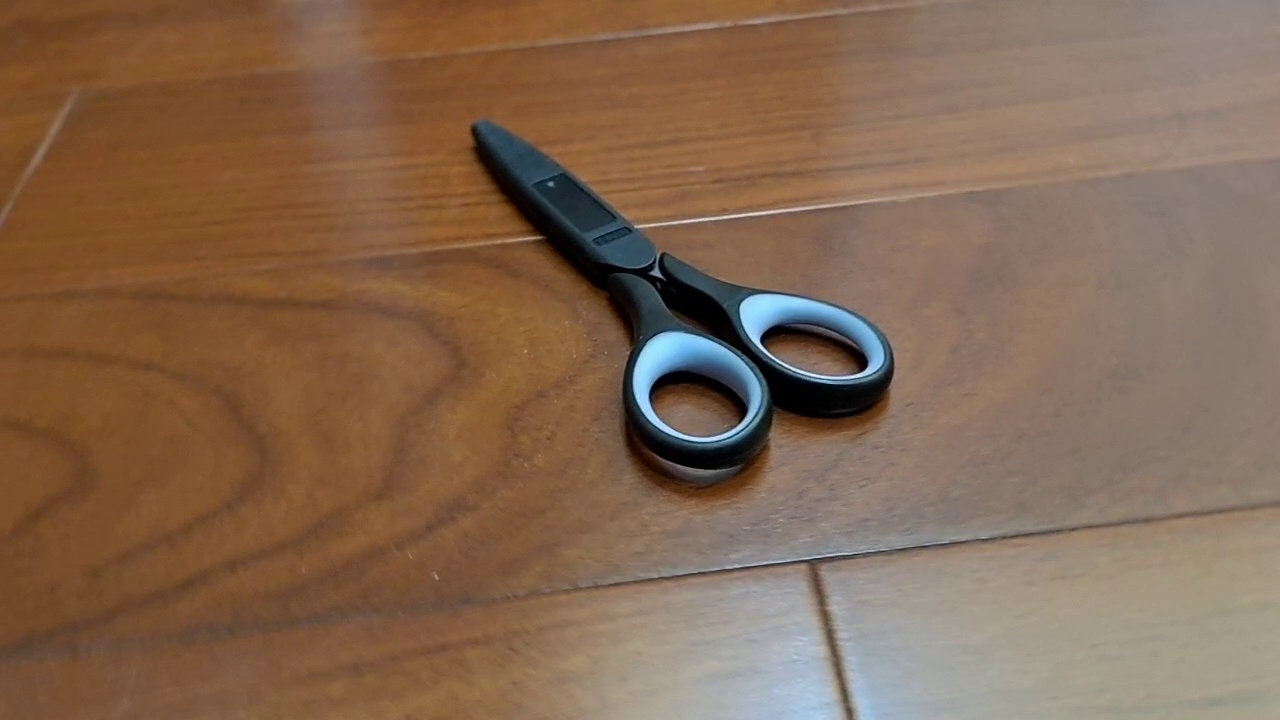scissors: (469, 118, 895, 471)
